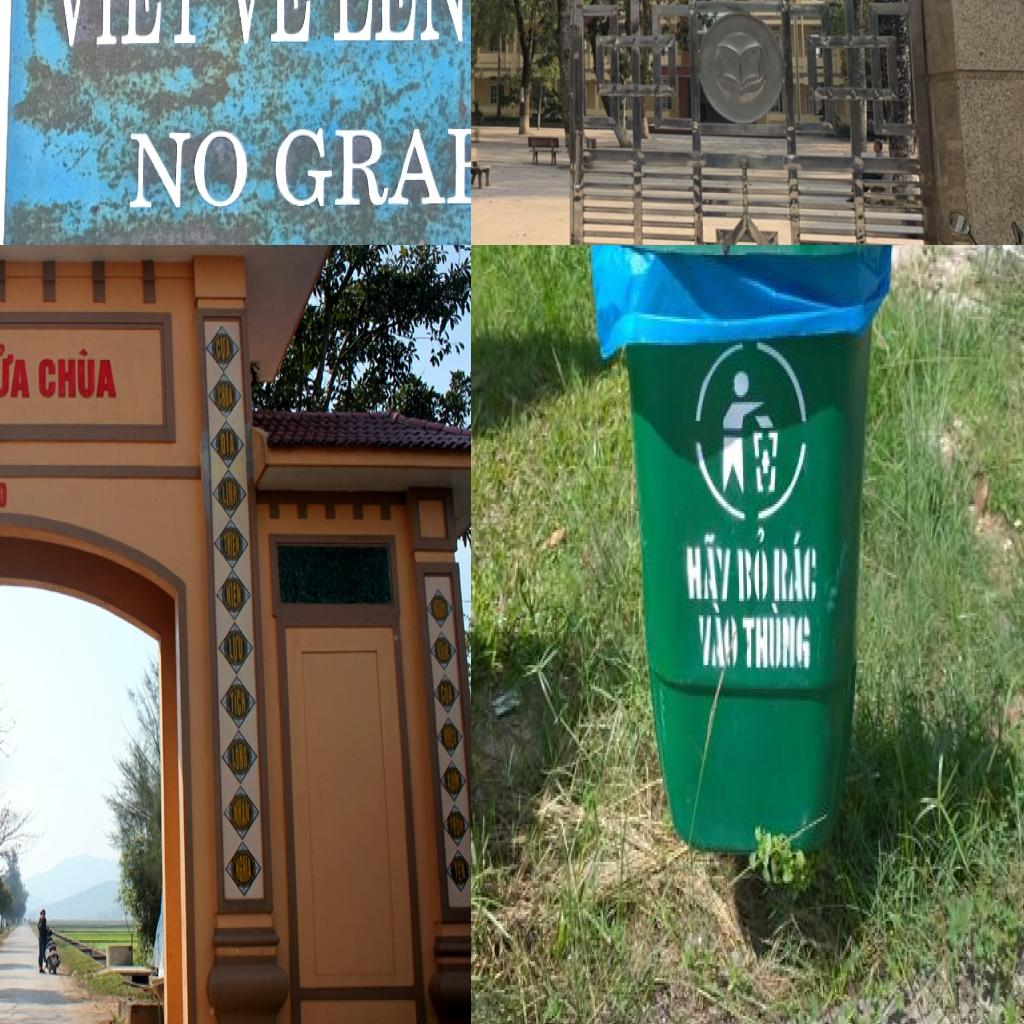text: (125, 108, 256, 220), (48, 0, 211, 54), (329, 0, 471, 52), (217, 0, 325, 55), (36, 346, 120, 400), (682, 528, 738, 606), (771, 526, 822, 604), (696, 606, 742, 672), (736, 525, 771, 608), (0, 344, 33, 400), (228, 688, 247, 717), (233, 799, 252, 828), (214, 334, 233, 362), (219, 430, 238, 458), (228, 634, 245, 664), (217, 382, 235, 410), (235, 855, 253, 883), (223, 532, 242, 558), (222, 482, 240, 508), (225, 584, 243, 610), (231, 745, 249, 771), (440, 682, 456, 706), (0, 481, 9, 512)
